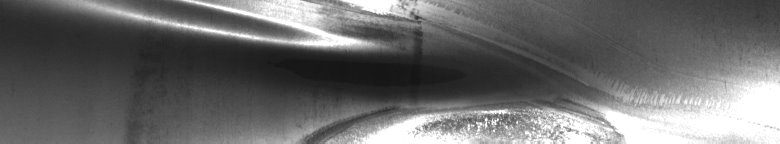ke: (67, 4, 623, 136)
